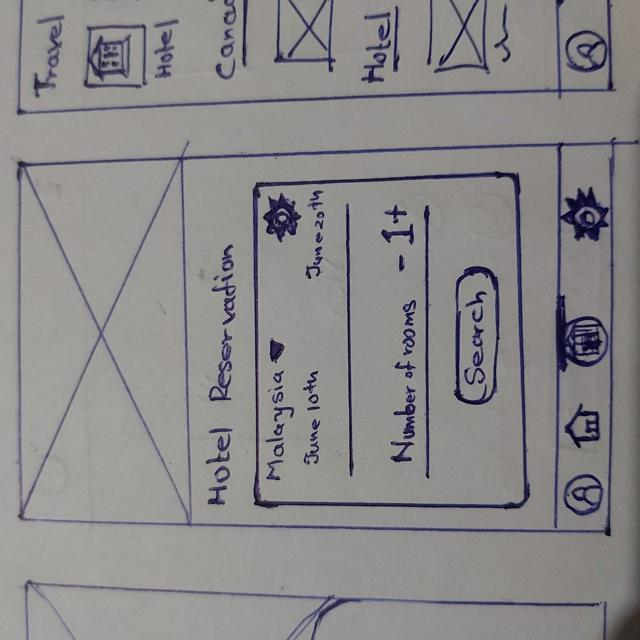BottomNavBar: (554, 140, 610, 535)
BottomNavItems: (557, 293, 610, 382), (554, 460, 610, 531), (561, 177, 610, 255), (557, 391, 610, 461)
Button: (451, 265, 500, 407)
CardView: (247, 172, 533, 510)
ComboBox: (261, 335, 294, 489)
EditText: (365, 200, 439, 482), (307, 189, 357, 485)
IconButton: (263, 193, 306, 244)
Image: (18, 160, 193, 525)
MainLayout: (17, 141, 617, 540)
TextView: (208, 242, 238, 507)
